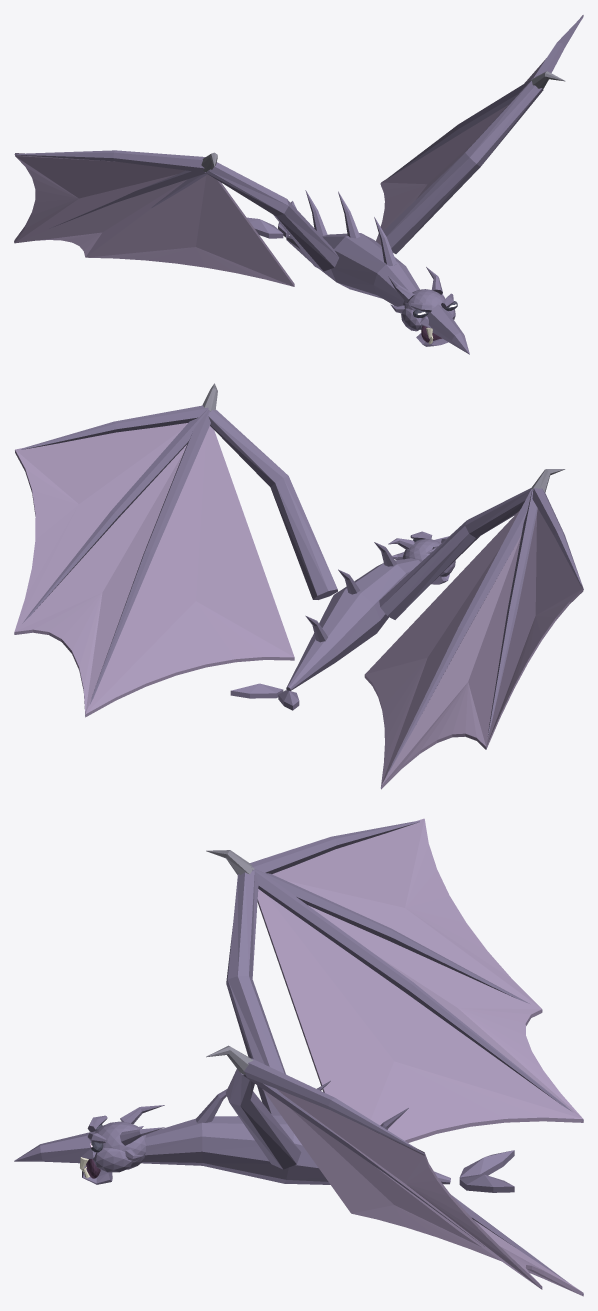
File: flying-violet-dart-v1.glb
3 renders of one model, top to bottom at view 1: azimuth 30°, elevation 25°; view 2: azimuth 150°, elevation 25°; view 3: azimuth 270°, elevation 25°, orthographic. The views are drawn at different scales.
Parts seen in each view (by area): view 1: wing_membrane_03, wing_membrane, wing_arm_R, serpentine_body, wing_membrane_06, wing_membrane_02, wing_arm_L, wing_finger, wing_finger_06, dagger_beak, wing_finger_02, wing_finger_04 (+1 smaller); view 2: wing_membrane_06, wing_membrane_04, wing_membrane_05, wing_membrane_02, wing_membrane_03, wing_membrane, serpentine_body, wing_arm_R, wing_arm_L, wing_finger_06, wing_finger_03, wing_finger_05 (+4 smaller); view 3: wing_membrane_03, wing_membrane, wing_membrane_02, wing_membrane_06, serpentine_body, wing_membrane_04, wing_arm_L, wing_finger_03, wing_arm_R, wing_finger_02, wing_finger_04, wing_finger (+7 smaller).
Boxes of the visible parts, x1,y1,x2,y2 form: wing_membrane_03: (86,174,294,286); wing_membrane: (14,153,185,243); wing_arm_R: (379,81,543,253); serpentine_body: (286,233,419,306); wing_membrane_06: (376,105,507,245); wing_membrane_02: (15,179,186,257); wing_arm_L: (206,162,338,271); wing_finger: (14,150,205,172); wing_finger_06: (380,79,531,184); dagger_beak: (427,304,469,354); wing_finger_02: (14,170,207,242); wing_finger_04: (533,15,583,78); wing_membrane_06: (85,426,294,717); wing_membrane_04: (14,423,187,631); wing_membrane_05: (14,445,186,714); wing_membrane_02: (381,534,521,789); wing_membrane_03: (364,509,520,785); wing_membrane: (486,508,583,749); serpentine_body: (286,558,420,690); wing_arm_R: (208,409,337,599); wing_arm_L: (379,488,531,619); wing_finger_06: (85,410,210,716); wing_finger_03: (380,489,531,788); wing_finger_05: (14,409,207,633); wing_membrane_03: (257,889,583,1142); wing_membrane: (272,818,541,1008); wing_membrane_02: (308,905,582,1118); wing_membrane_06: (262,1089,580,1295); serpentine_body: (141,1115,450,1184); wing_membrane_04: (277,1089,542,1289); wing_arm_L: (226,871,285,1115); wing_finger_03: (252,870,583,1121); wing_arm_R: (225,1069,301,1169); wing_finger_02: (254,869,542,1011); wing_finger_04: (243,1058,424,1154); wing_finger: (250,821,419,873).
Bounding box in the file's own units: 8.61 × 3.14 × 6.21.
